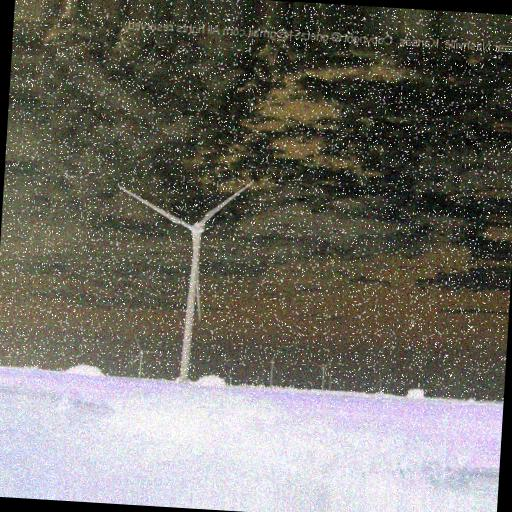wind turbine: (116, 179, 254, 377)
